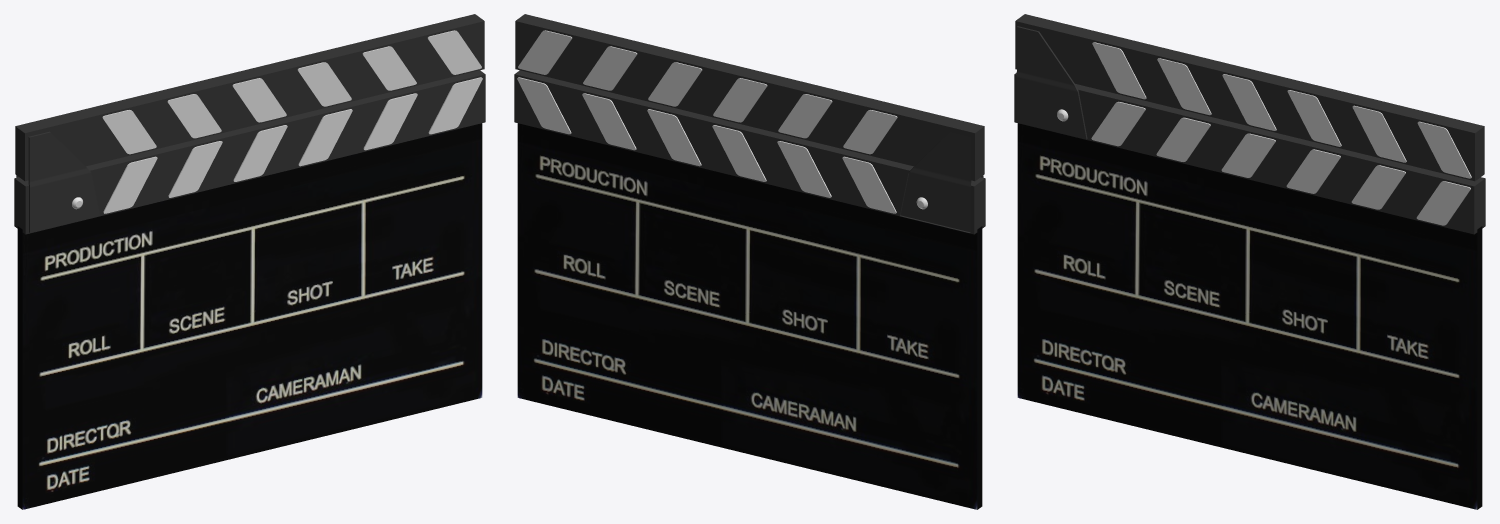
File: claqueta.fbx
3 renders of one model, left to right at view 1: azimuth 30°, elevation 25°; view 2: azimuth 150°, elevation 25°; view 3: azimuth 330°, elevation 25°, orthographic.
Parts seen in each view (by area): view 1: Movie numberator; view 2: Movie numberator; view 3: Movie numberator.
Part boxes in pixels (box(x1,y1,x2,y2)): Movie numberator: box(14, 14, 485, 509); Movie numberator: box(514, 14, 985, 509); Movie numberator: box(1014, 14, 1485, 509).
Bounding box in the file's own units: 34.38 × 27.03 × 2.36.
Materials: 5 (1 with a texture image).
